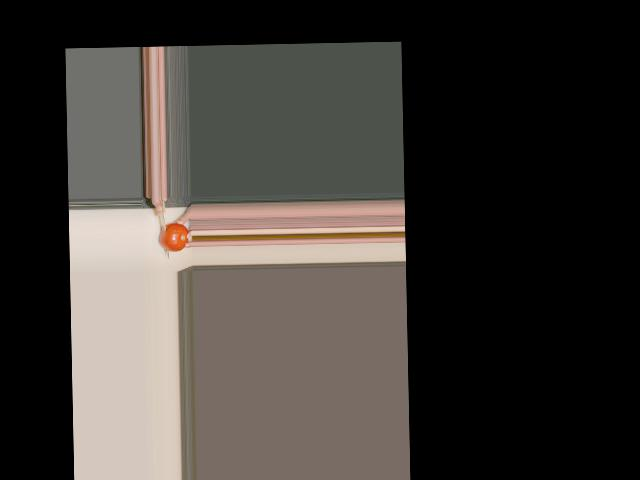tomato: (158, 223, 188, 252)
